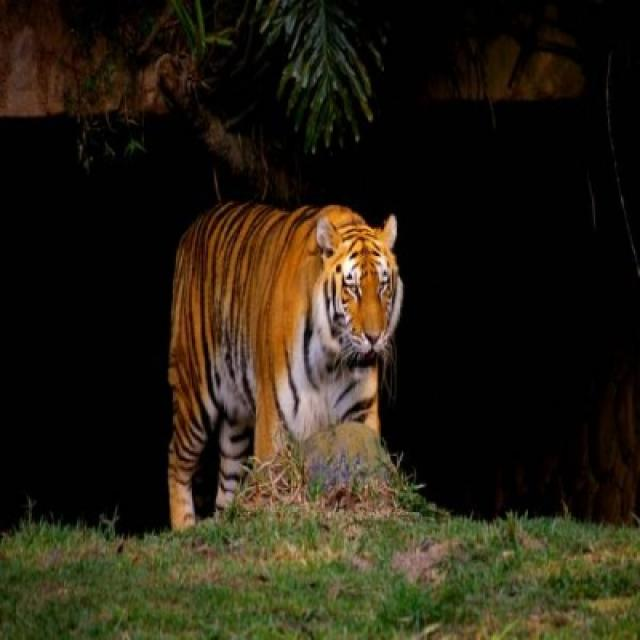Tiger: (168, 202, 402, 528)
